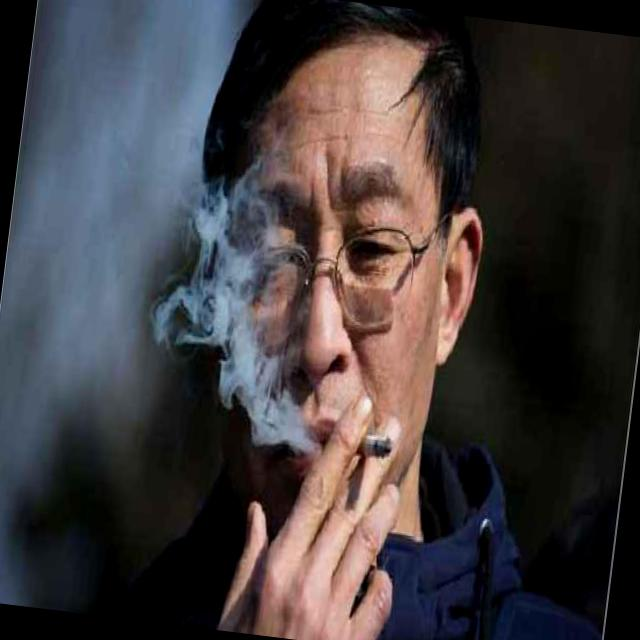smoke: (345, 416, 410, 472)
